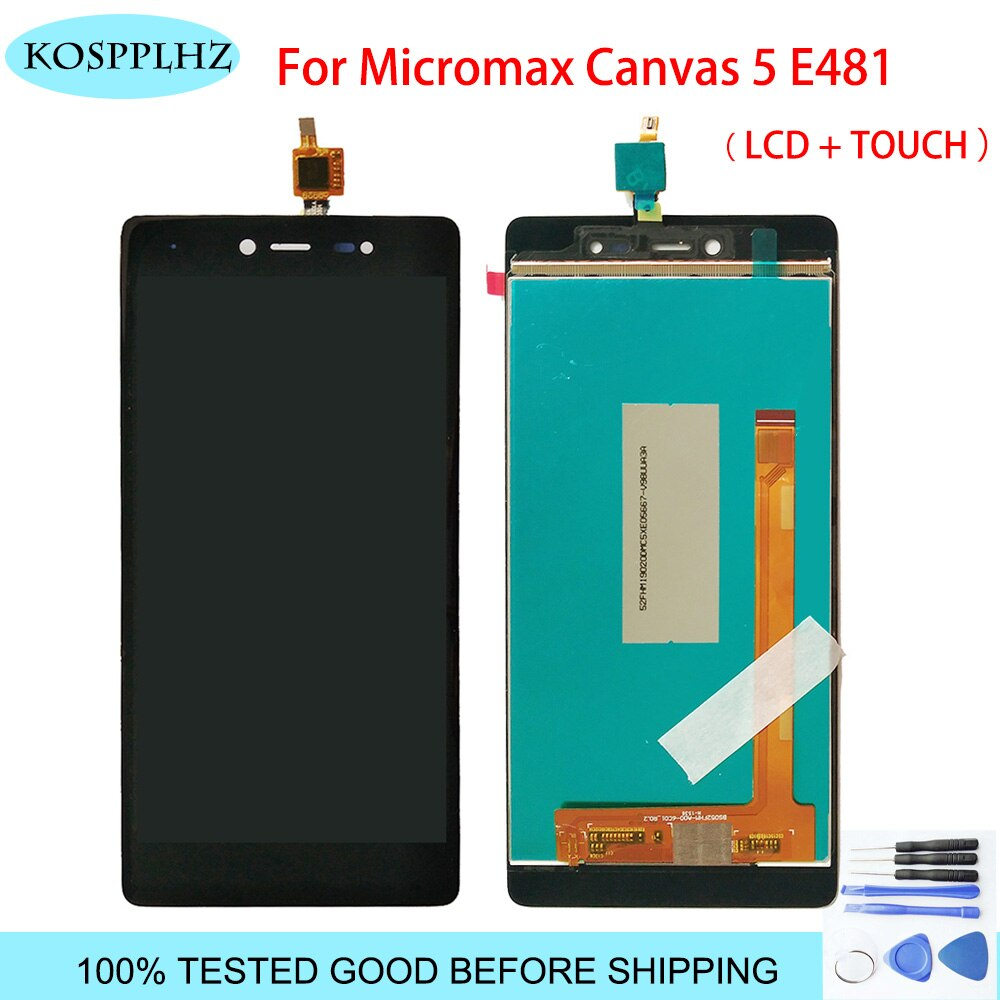phone: (102, 202, 474, 915), (481, 211, 856, 918)
